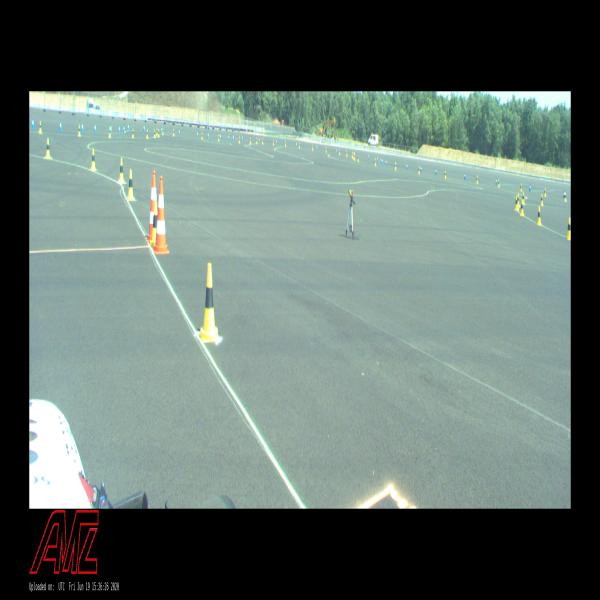blue_cone: (94, 123, 97, 133), (59, 121, 62, 131), (463, 172, 466, 180), (32, 118, 34, 129), (529, 184, 532, 191), (123, 125, 126, 132), (385, 157, 387, 165), (110, 125, 112, 133), (435, 167, 437, 175), (420, 164, 422, 172), (82, 124, 84, 131), (228, 134, 230, 140), (178, 129, 180, 135), (258, 136, 260, 142), (563, 191, 565, 197), (220, 134, 222, 140), (380, 158, 382, 164), (207, 132, 209, 137), (336, 150, 338, 154), (144, 125, 145, 132), (496, 177, 497, 184), (406, 163, 407, 170), (382, 159, 383, 166), (119, 127, 120, 133), (128, 124, 129, 130), (368, 153, 369, 159), (161, 127, 162, 133), (233, 136, 234, 141), (377, 156, 378, 161), (197, 132, 198, 137), (242, 136, 243, 141), (296, 143, 297, 147), (276, 139, 277, 143), (316, 145, 317, 149)
large_orange_cone: (154, 176, 169, 254), (148, 172, 157, 242)
yellow_cone: (200, 263, 218, 341), (149, 200, 158, 247), (127, 169, 135, 203), (118, 156, 125, 182), (44, 137, 52, 158), (90, 148, 96, 170), (536, 206, 542, 225), (566, 218, 571, 240), (514, 194, 519, 210), (520, 198, 524, 215), (38, 120, 42, 134), (540, 193, 544, 206), (77, 126, 81, 136), (522, 191, 525, 204), (108, 127, 111, 138), (564, 192, 567, 202), (518, 192, 520, 207), (394, 162, 397, 169), (418, 166, 420, 175), (146, 129, 148, 138), (476, 176, 478, 184), (132, 129, 134, 137), (498, 180, 500, 188), (544, 188, 546, 196), (256, 137, 258, 145), (520, 184, 522, 192), (374, 157, 376, 165), (201, 132, 203, 139), (346, 150, 348, 157), (444, 172, 446, 179), (158, 129, 160, 136), (351, 152, 353, 158), (162, 128, 164, 134), (156, 128, 158, 134), (358, 154, 359, 162), (154, 130, 155, 138), (273, 138, 274, 146), (173, 129, 174, 136), (218, 134, 219, 141), (285, 140, 286, 147), (262, 138, 263, 145), (354, 153, 355, 160), (239, 138, 240, 144), (250, 137, 251, 143), (312, 144, 313, 150), (299, 143, 300, 149), (339, 150, 340, 155), (326, 146, 326, 152)
